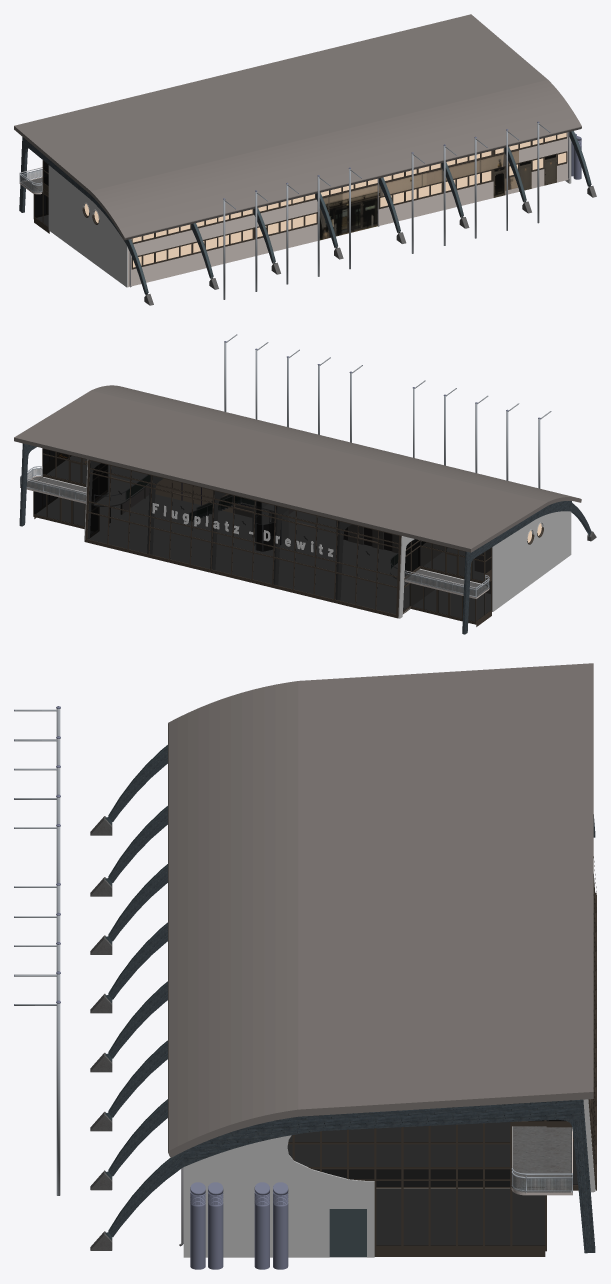
Rendered from edcd-terminal_LOD00.gltf.
3 views of the same model, one above another, from view 1: azimuth 30°, elevation 25°; view 2: azimuth 150°, elevation 25°; view 3: azimuth 270°, elevation 25° (orthographic). The views are drawn at different scales.
Visible parts, largest first — view 1: roof.002, wall rear.001, wall right.004, arc.010, wall right glass, balcony right.001, arc.004, arc.007, arc.001, arc.002, arc.003, arc.006 (+1 smaller); view 2: roof.002, glass front.002, ground floor.001, wall right.004, first floor.001, glass top right.001, arc.010, glass bottom right.001, interior wide wall.002, glass bottom left.001, glass top left.001, balcony right.001 (+10 smaller); view 3: roof.002, wall left glass, wall left bricks, first floor.001, arc.001, ground floor.001, arc.002, arc.010, arc.003, arc.004, arc.005, arc.007 (+8 smaller).
Boxes of the visible parts, box(x1,y1,x2,y2) form: roof.002: box(14, 14, 581, 240); wall rear.001: box(128, 132, 568, 287); wall right.004: box(48, 165, 127, 287); arc.010: box(19, 137, 153, 305); wall right glass: box(34, 160, 49, 233); balcony right.001: box(19, 167, 42, 194); arc.004: box(378, 177, 406, 243); arc.007: box(191, 223, 218, 289); arc.001: box(569, 131, 596, 197); arc.002: box(504, 146, 531, 213); arc.003: box(441, 162, 469, 228); arc.006: box(253, 208, 280, 274); roof.002: box(14, 385, 581, 552); glass front.002: box(85, 459, 401, 618); ground floor.001: box(37, 495, 490, 620); wall right.004: box(492, 511, 571, 611); first floor.001: box(27, 456, 487, 597); glass top right.001: box(420, 540, 484, 583); arc.010: box(462, 501, 596, 634); glass bottom right.001: box(410, 583, 476, 624); interior wide wall.002: box(156, 479, 398, 552); glass bottom left.001: box(33, 491, 85, 528); glass top left.001: box(42, 448, 87, 486); balcony right.001: box(405, 570, 489, 598); roof.002: box(168, 663, 593, 1157); wall left glass: box(287, 1122, 545, 1256); wall left bricks: box(183, 1135, 374, 1257); first floor.001: box(288, 1122, 571, 1192); arc.001: box(90, 1099, 595, 1253); ground floor.001: box(377, 1130, 594, 1244); arc.002: box(90, 1099, 595, 1192); arc.010: box(90, 745, 595, 837); arc.003: box(90, 1040, 590, 1131); arc.004: box(90, 981, 167, 1072); arc.005: box(90, 922, 167, 1013); arc.007: box(90, 806, 167, 896).
Bounding box in the file's own units: 45.47 × 9.5 × 25.74.
